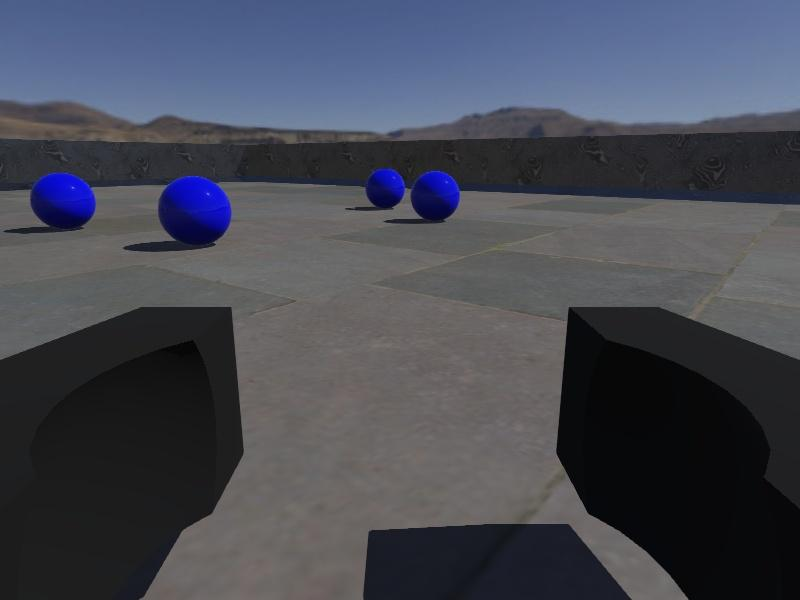blue ball: (158, 176, 232, 246), (30, 172, 96, 229), (409, 171, 461, 222), (365, 168, 405, 209)
